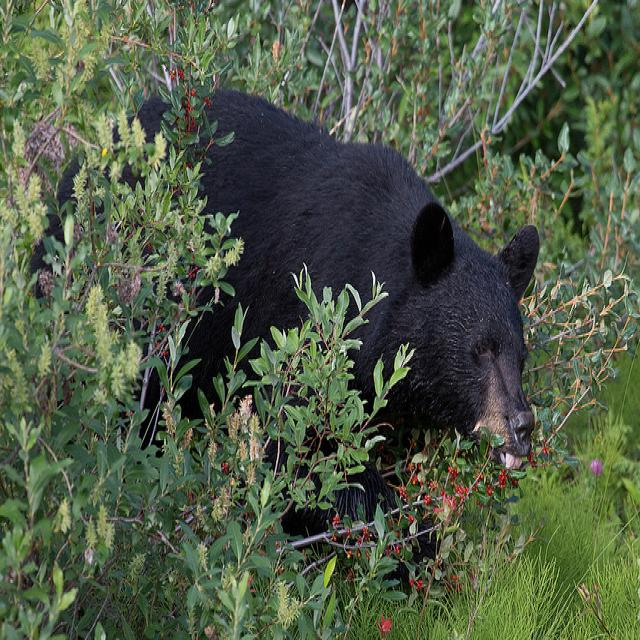Bear: (29, 85, 542, 597)
